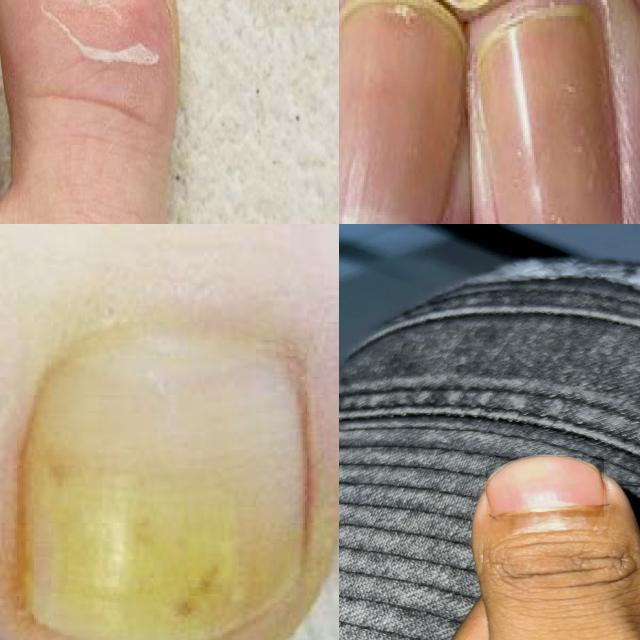diabetes: (19, 332, 307, 640), (476, 10, 620, 224), (339, 3, 464, 224)
sehat: (486, 456, 604, 517)
